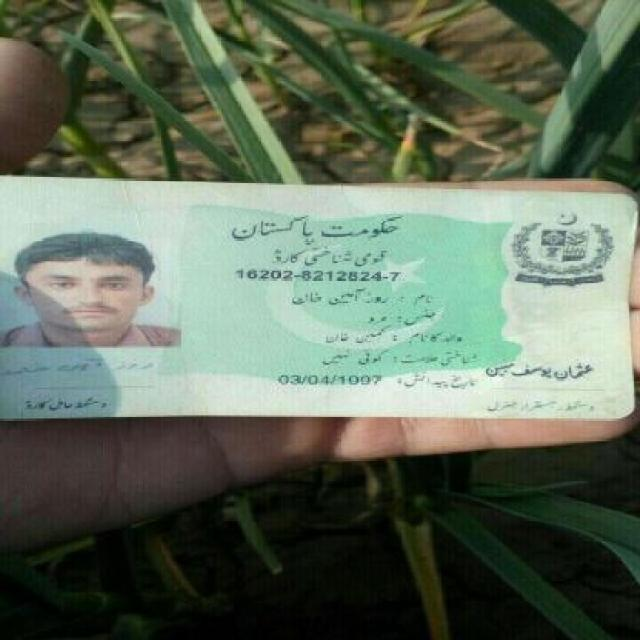Front: (3, 172, 629, 423)
